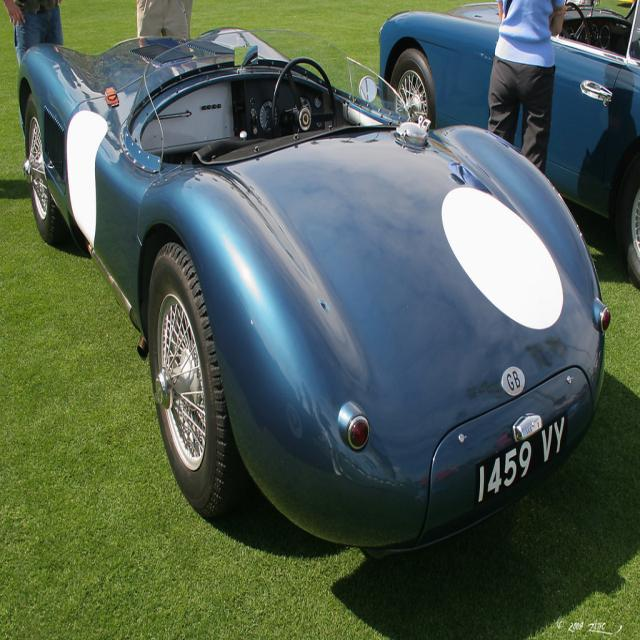car: (20, 13, 609, 557)
